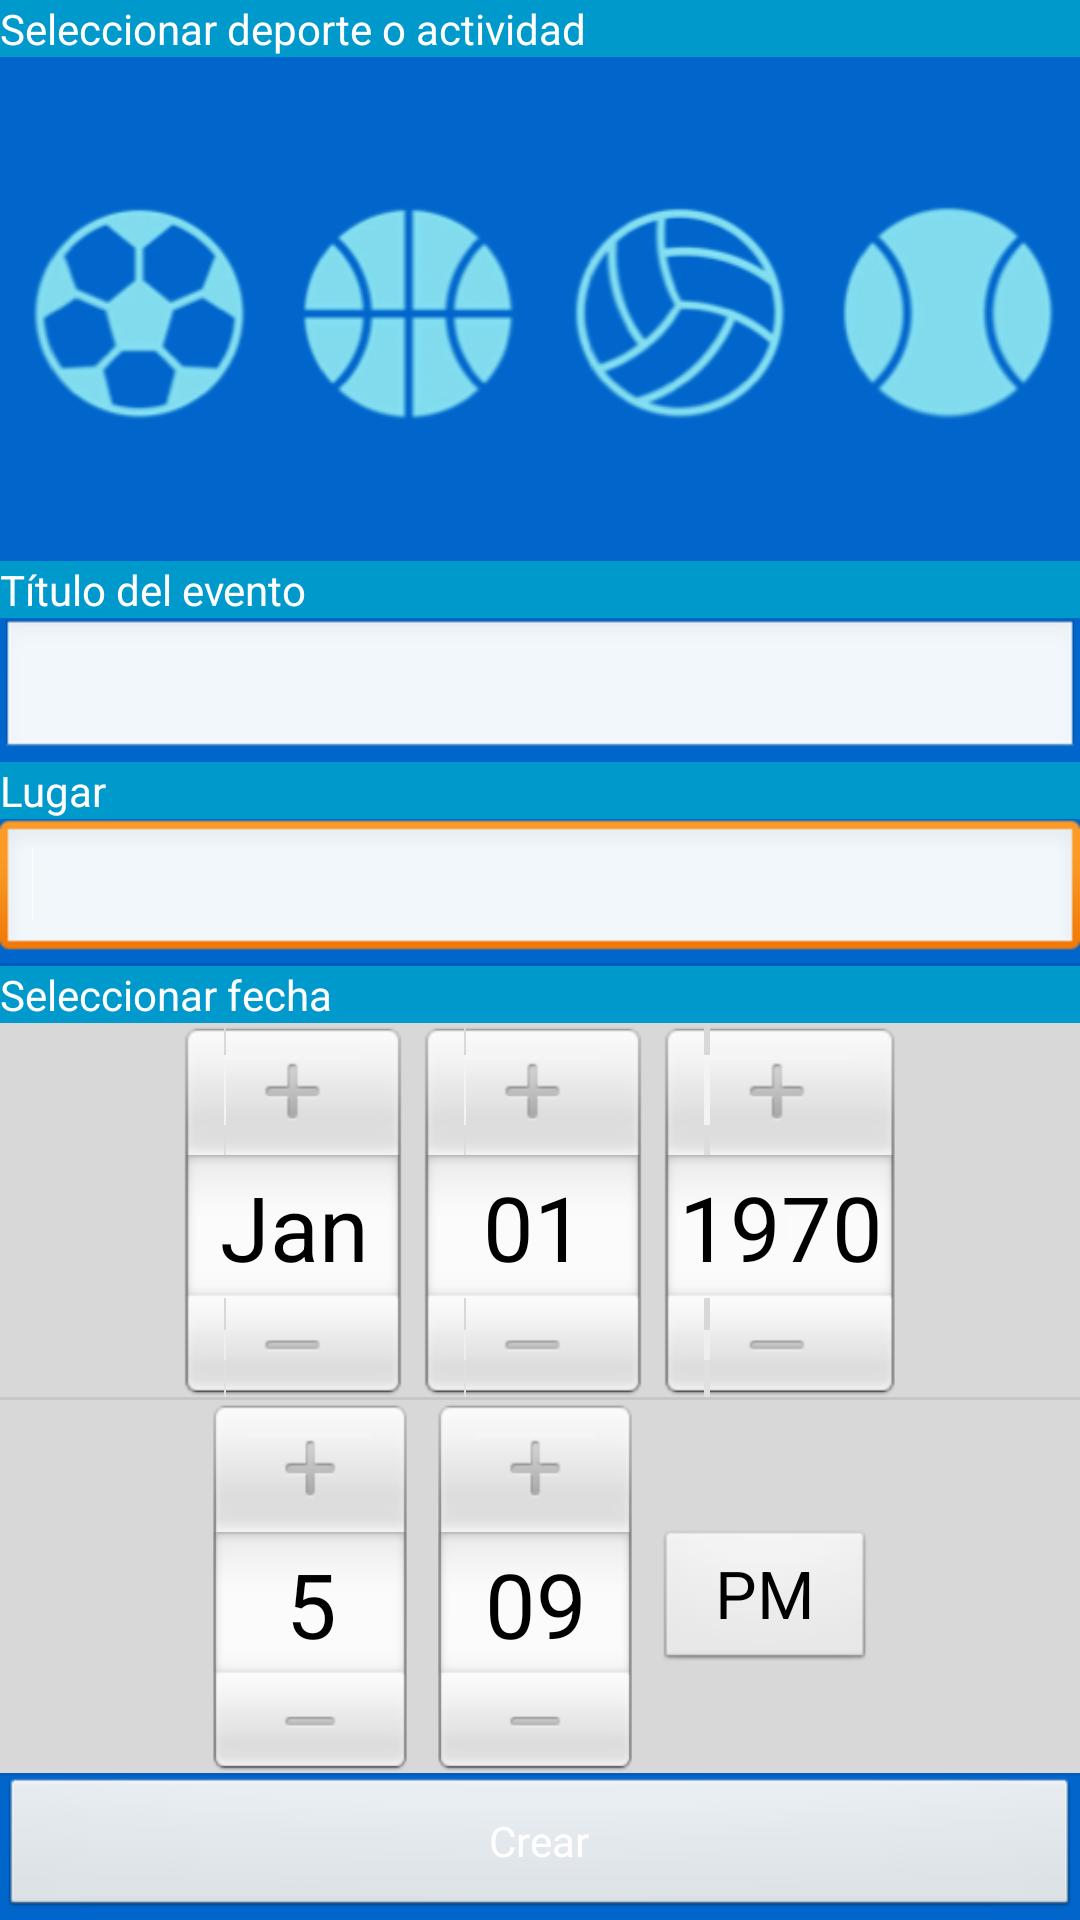

Point at icon controls on the screen. Image size 1080x1920, points as (x,y).
basket: (408,313)
soccer: (139,313)
tennis: (948,312)
voley: (680,313)
